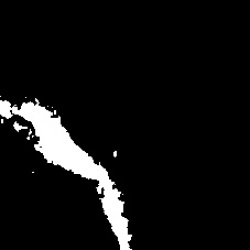crack: (0, 95, 132, 248)
